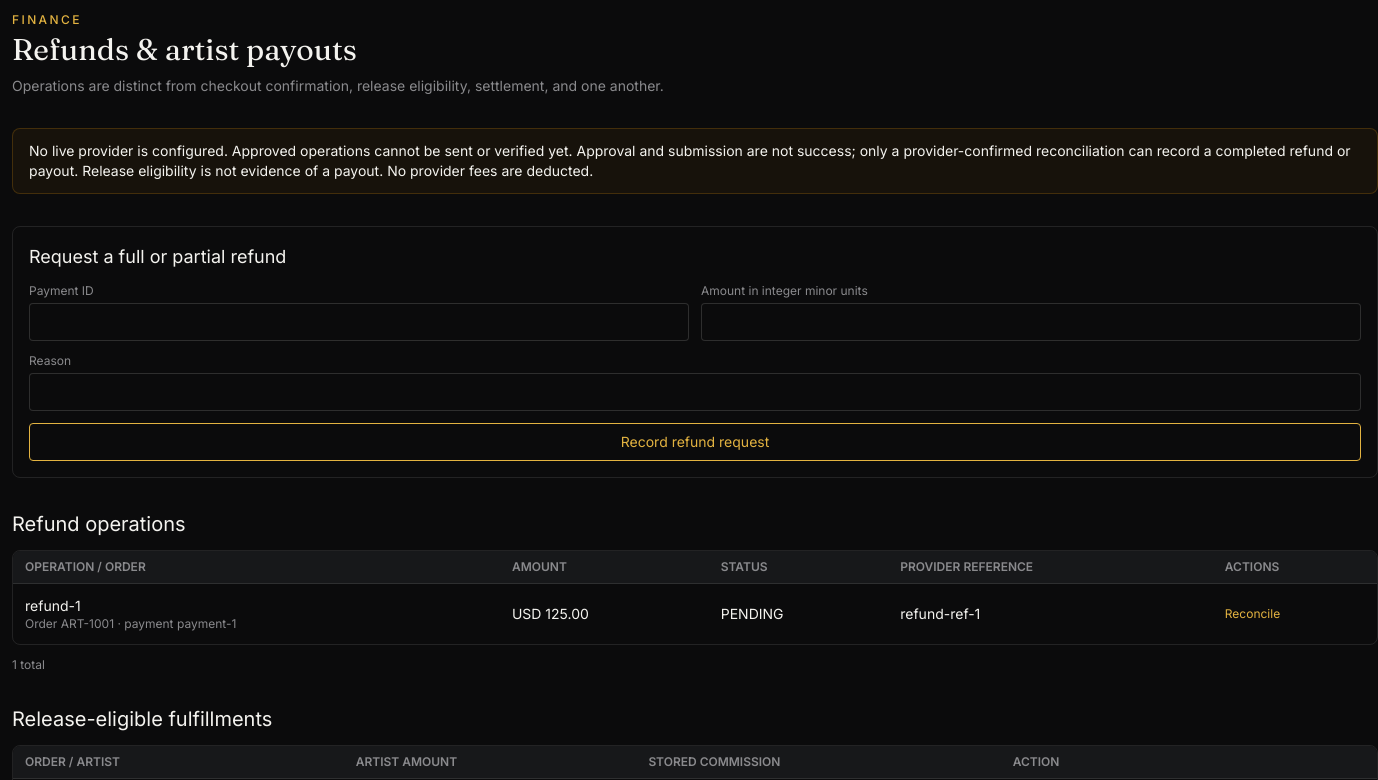
it: Admin refund and payout operations page › preserves refund request inputs when the API rejects the request
Expected: the text "USD 125.00" is shown, top-left (500, 584), bottom-right (709, 644)
Type "payment-1" into the field labelled "Payment ID".
click(359, 322); type("payment-1")  # box top-left (29, 303), bottom-right (689, 341)
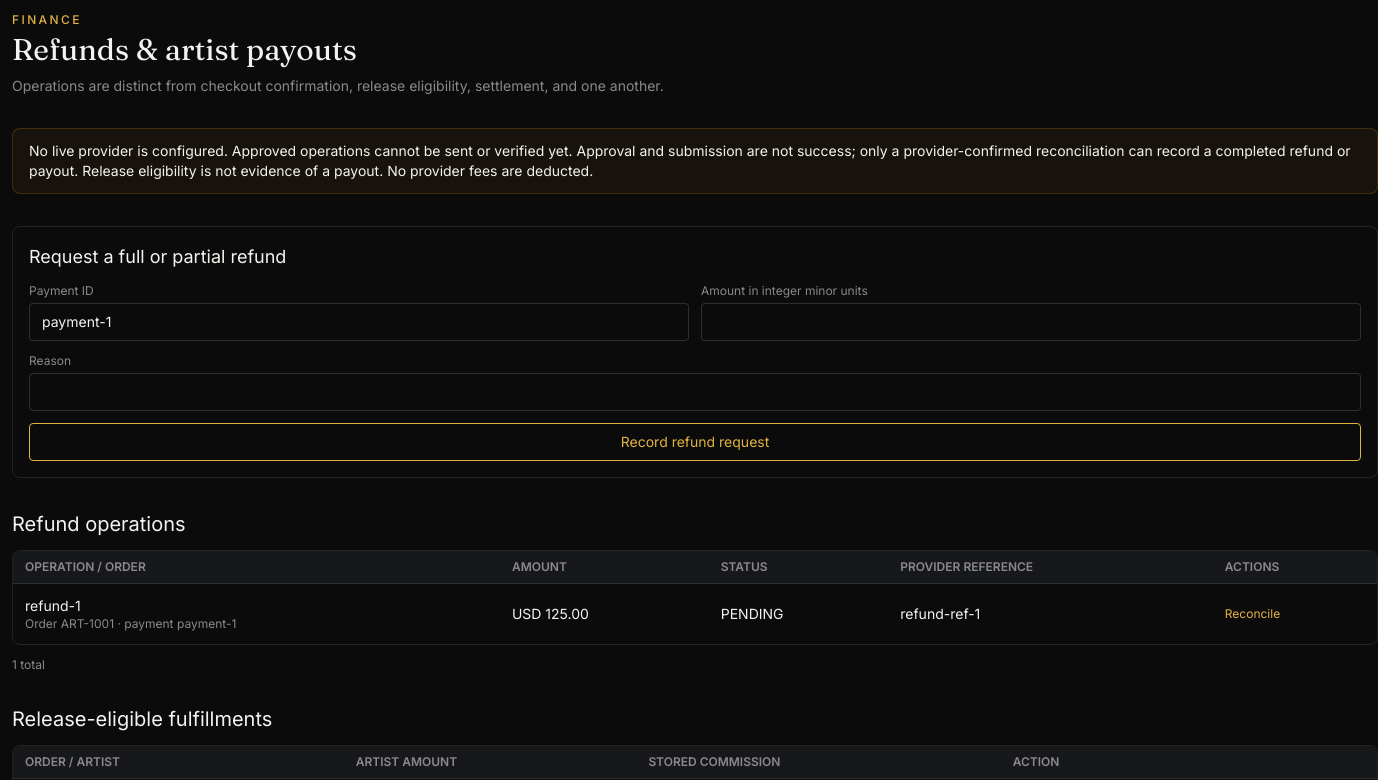
Type "2500" into the field labelled "Amount in integer minor units".
click(1031, 322); type("2500")  # box top-left (701, 303), bottom-right (1361, 341)
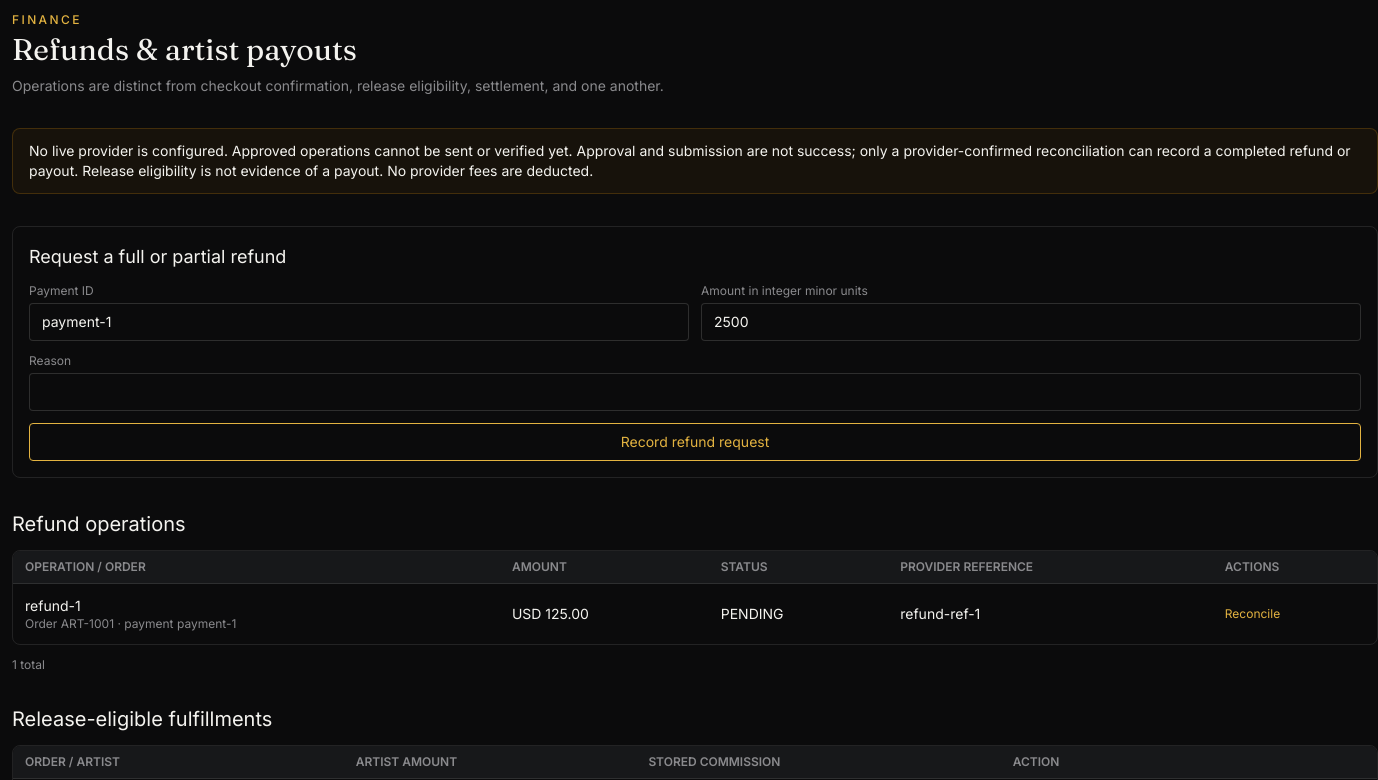
Type "Approved after review" into the field labelled "Reason".
click(695, 392); type("Approved after review")  # box top-left (29, 373), bottom-right (1361, 411)
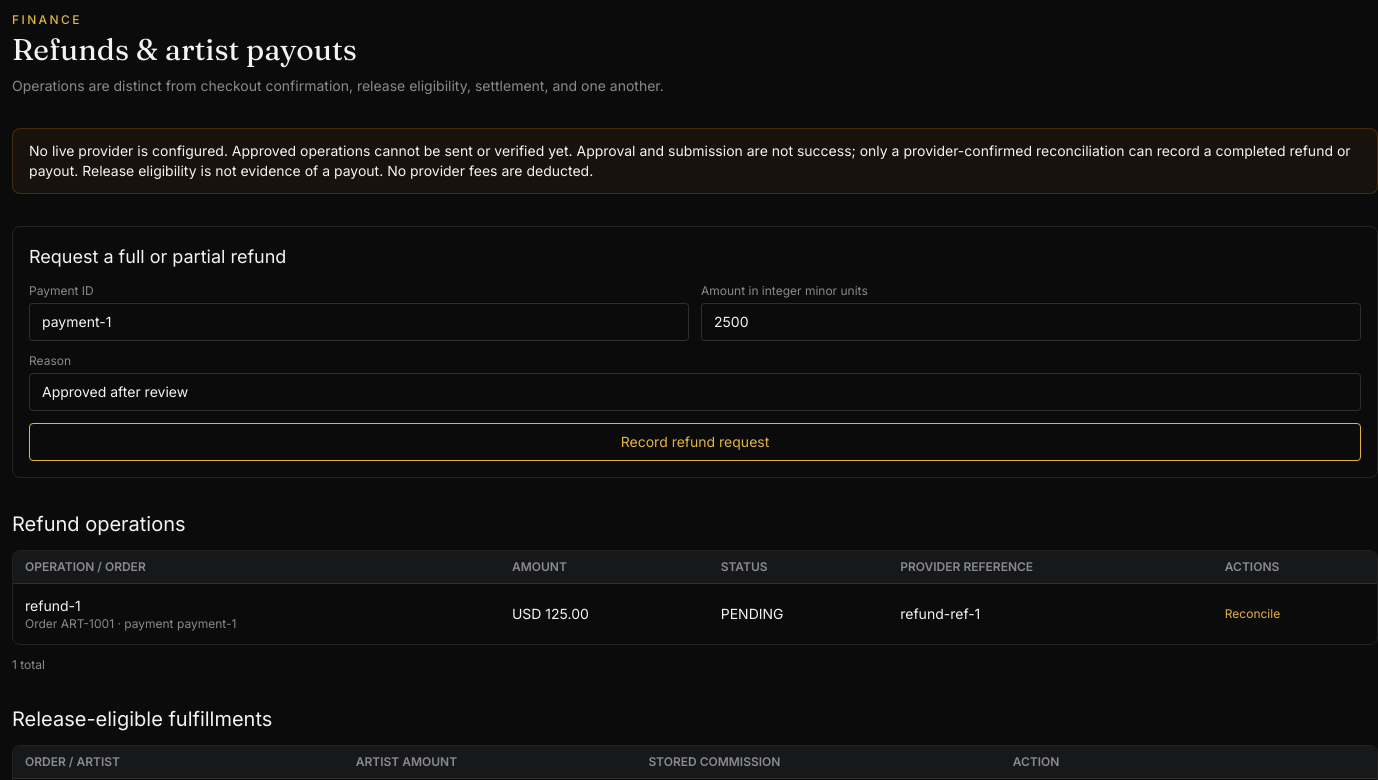
Click the button "Record refund request".
click(695, 442)  # box top-left (29, 423), bottom-right (1361, 461)
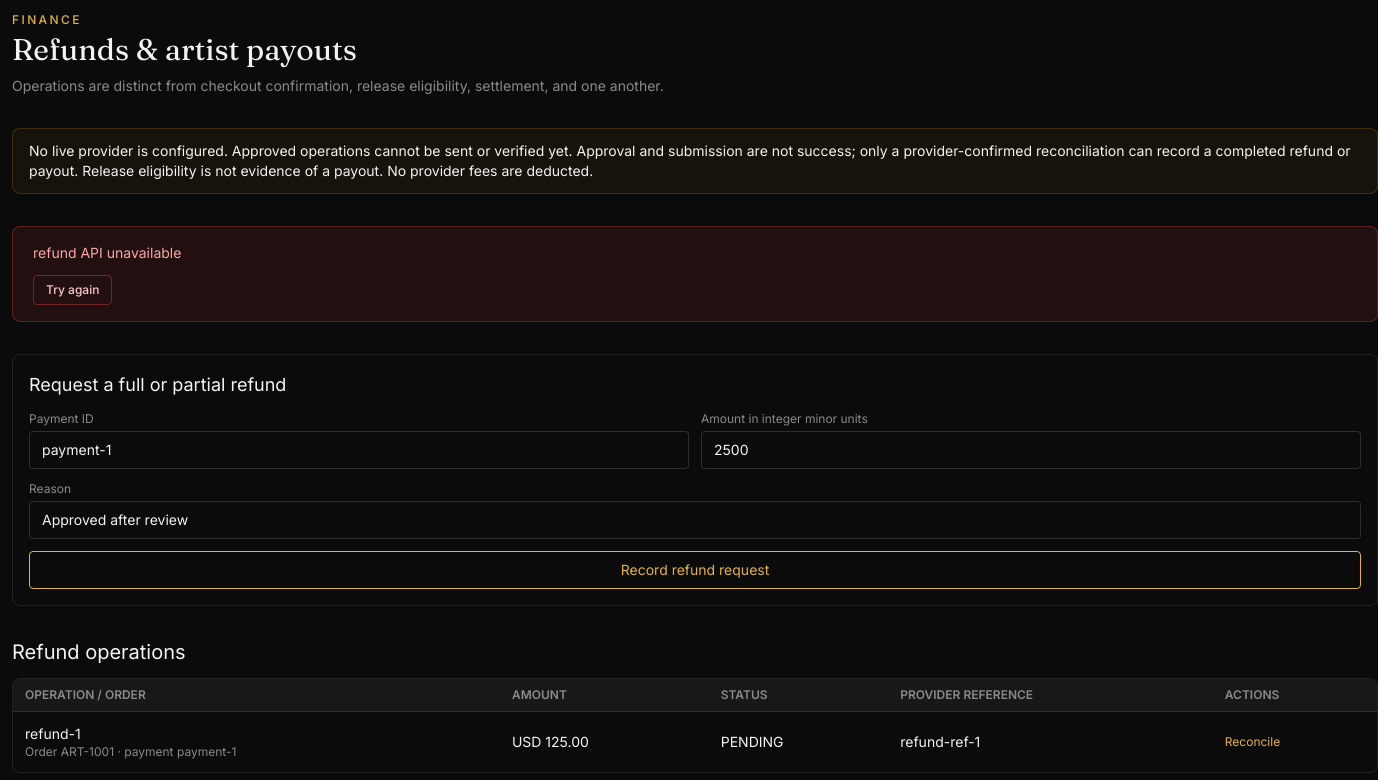
Expected: the text "refund API unavailable" is shown, top-left (33, 244), bottom-right (181, 261)
